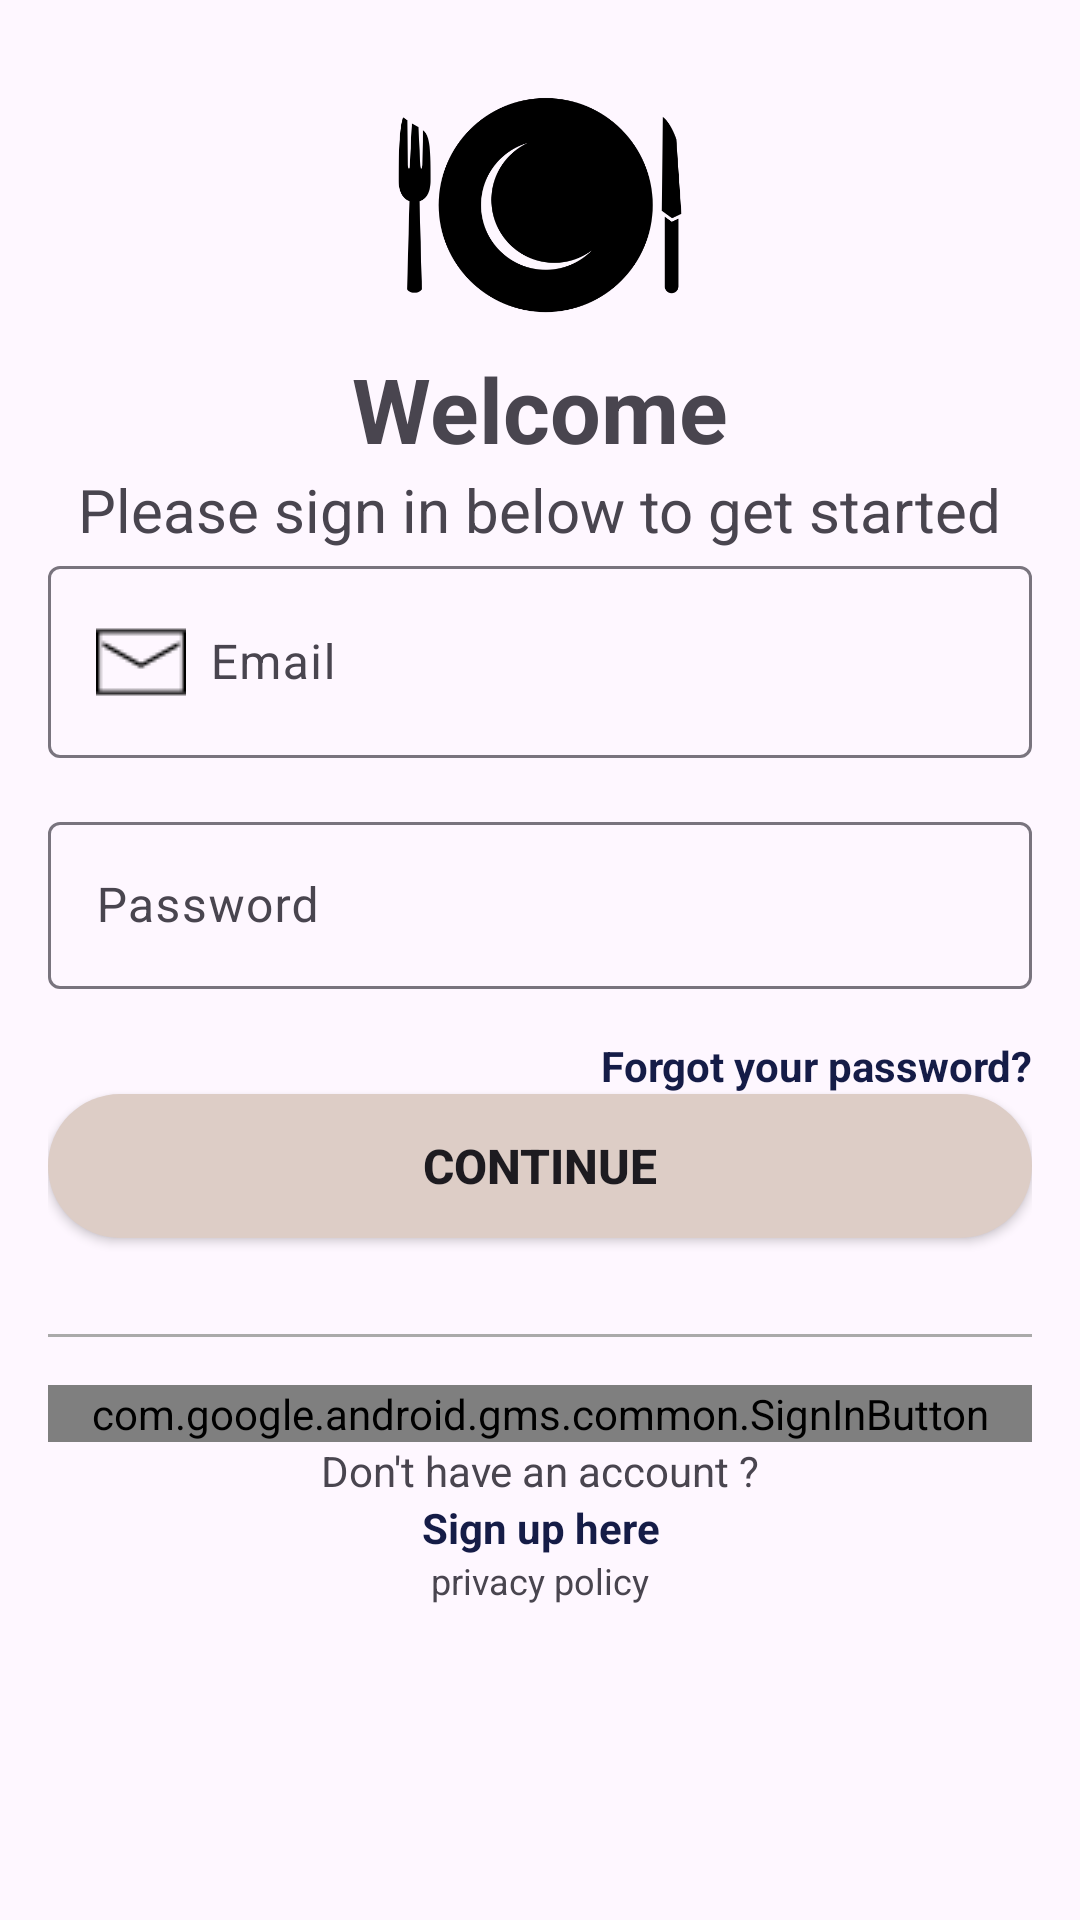

Where to tap for icons on this 1080w x 1920h app screen, as (x=x, y=y):
noun meal: (x=540, y=205)
